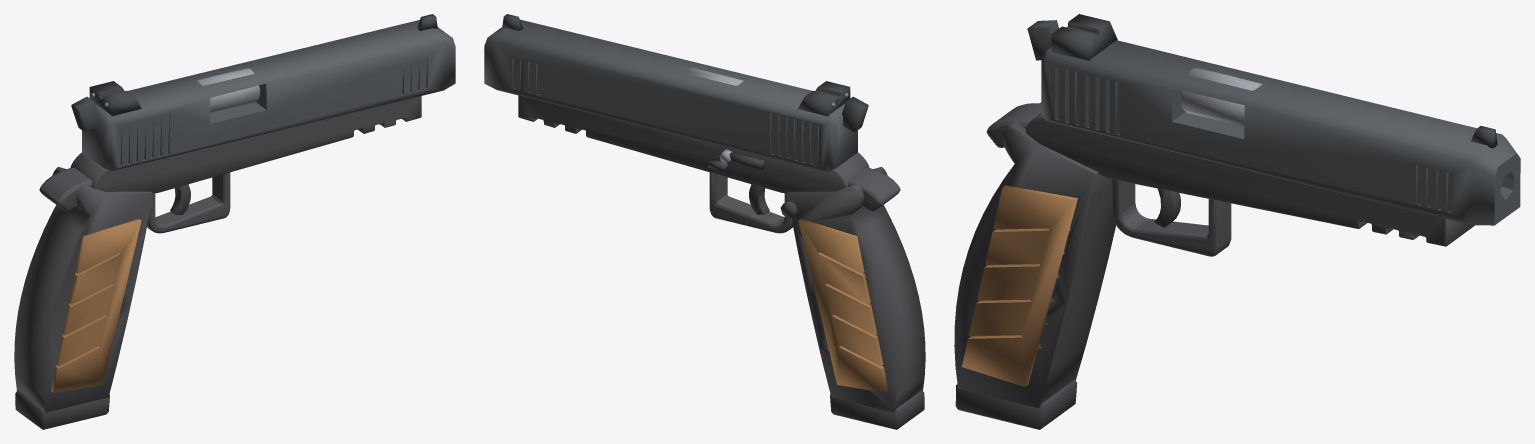
The picture shows the model from 3 angles, left to right: view 1: azimuth 30°, elevation 25°; view 2: azimuth 150°, elevation 25°; view 3: azimuth 330°, elevation 25°; orthographic projection. The views are drawn at different scales.
Visible parts, largest first — view 1: lod_skin_polymer, lod_skin_paint, lod_detail_wood, lod_metal_dark, lod_metal_steel; view 2: lod_skin_paint, lod_skin_polymer, lod_detail_wood, lod_metal_dark, lod_metal_steel; view 3: lod_skin_paint, lod_skin_polymer, lod_detail_wood, lod_metal_dark, lod_metal_steel.
Part boxes in pixels (box(x1,y1,x2,y2)): lod_skin_polymer: box(14, 96, 421, 412); lod_skin_paint: box(82, 20, 455, 171); lod_detail_wood: box(51, 219, 141, 392); lod_metal_dark: box(15, 14, 437, 429); lod_metal_steel: box(196, 68, 260, 113); lod_skin_paint: box(484, 19, 857, 172); lod_skin_polymer: box(518, 95, 925, 412); lod_detail_wood: box(798, 219, 888, 392); lod_metal_dark: box(502, 14, 924, 429); lod_metal_steel: box(685, 68, 743, 163); lod_skin_paint: box(1041, 40, 1520, 225); lod_skin_polymer: box(954, 102, 1474, 408); lod_detail_wood: box(962, 185, 1077, 386); lod_metal_dark: box(955, 14, 1497, 429); lod_metal_steel: box(1180, 68, 1262, 126).
Size of the model in its own units: 0.237 by 0.1676 by 0.033.
